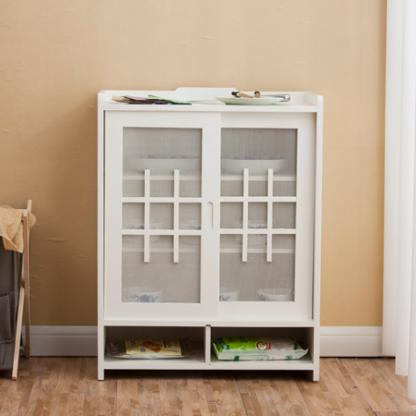Cupboard: (97, 88, 324, 383)
